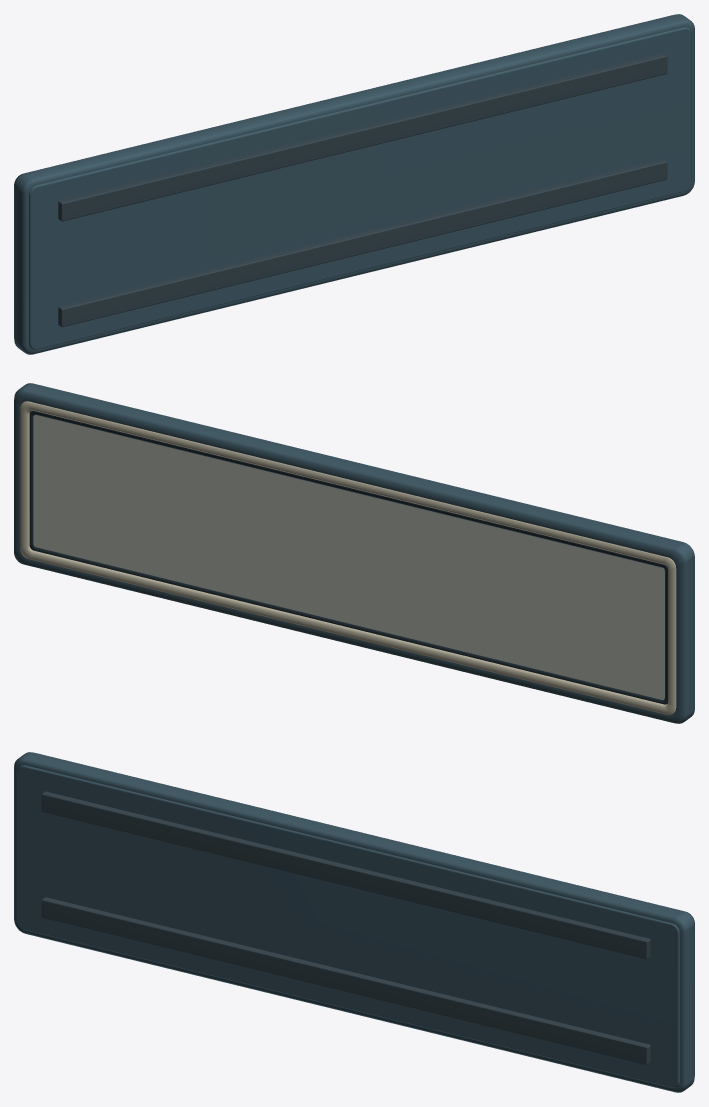
The model's file is city_shop_fittings_02.glb.
3 renders of one model, top to bottom at view 1: azimuth 30°, elevation 25°; view 2: azimuth 150°, elevation 25°; view 3: azimuth 330°, elevation 25°, orthographic.
Parts seen in each view (by area): view 1: folded_back_tray, formed_fascia_frame, wall_mount_rail_lower, wall_mount_rail_upper; view 2: fascia_artwork_carrier, formed_fascia_frame, continuous_face_trim, artwork_reveal; view 3: folded_back_tray, formed_fascia_frame, wall_mount_rail_lower, wall_mount_rail_upper.
Boxes of the visible parts, x1,y1,x2,y2 form: folded_back_tray: (29, 27, 691, 349); formed_fascia_frame: (14, 14, 694, 354); wall_mount_rail_lower: (58, 159, 667, 327); wall_mount_rail_upper: (58, 53, 667, 221); fascia_artwork_carrier: (33, 414, 665, 699); formed_fascia_frame: (14, 383, 694, 723); continuous_face_trim: (20, 401, 676, 714); artwork_reveal: (29, 410, 668, 704); folded_back_tray: (17, 765, 679, 1087); formed_fascia_frame: (14, 752, 694, 1092); wall_mount_rail_lower: (41, 897, 650, 1065); wall_mount_rail_upper: (41, 791, 650, 959).
Size of the model in its own units: 3.2 by 0.8 by 0.14.
